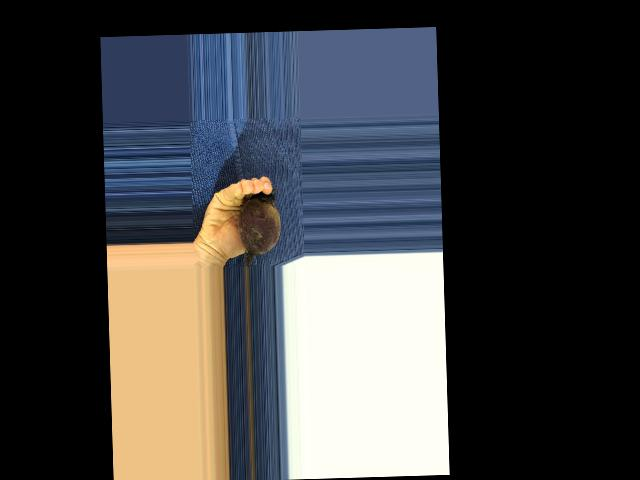beet: (236, 187, 281, 266)
